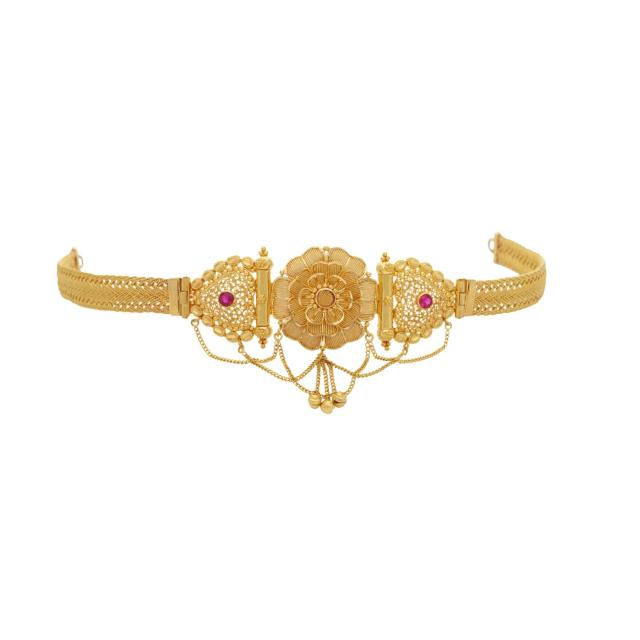missing gem: (317, 290, 335, 307)
